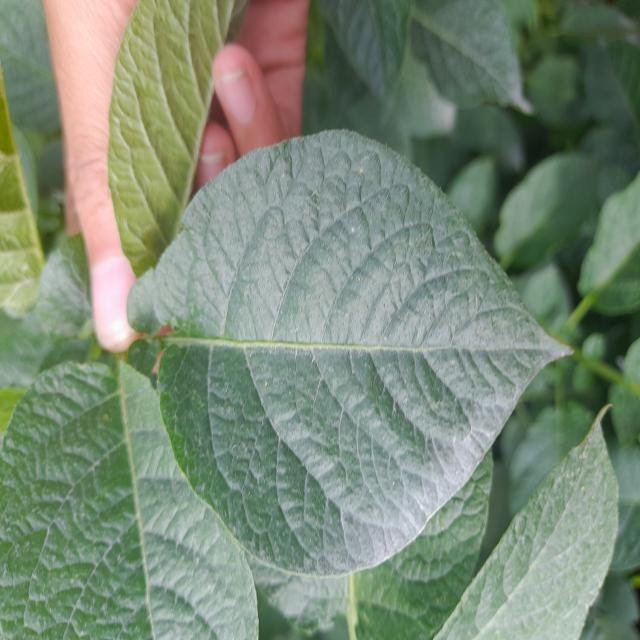healthy: (123, 126, 575, 580)
